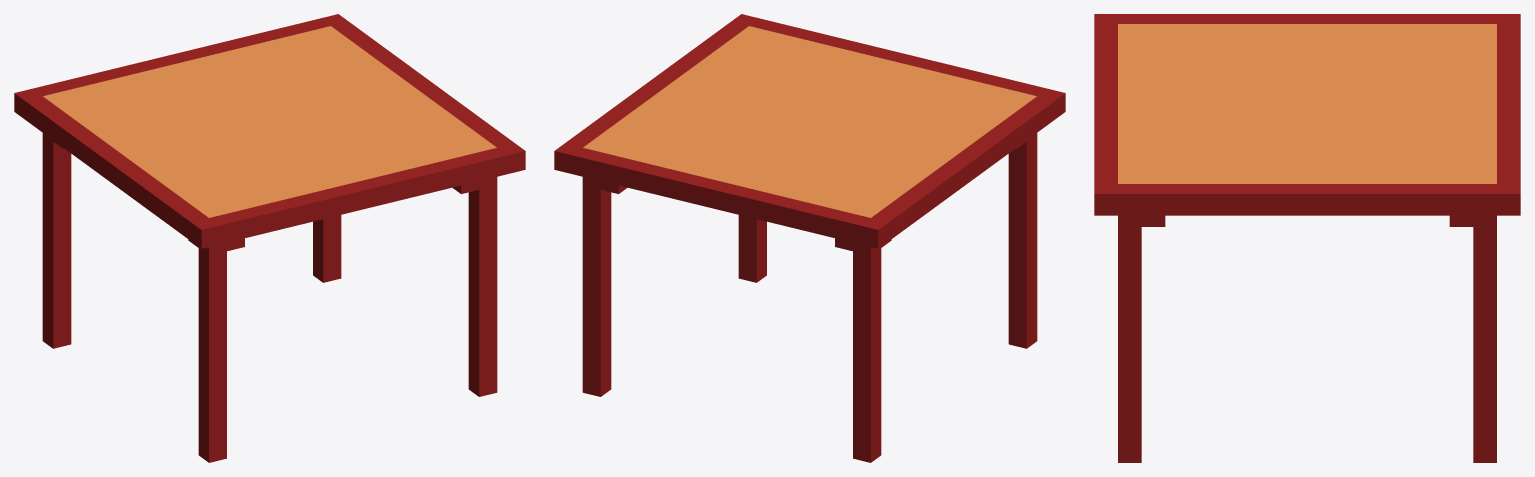
3 views of the same model, side by side, from view 1: azimuth 30°, elevation 25°; view 2: azimuth 150°, elevation 25°; view 3: azimuth 270°, elevation 25° (orthographic). The views are drawn at different scales.
Size of the model in its own units: 1.8 by 1.3 by 1.8.
1 material, 1 textured.
